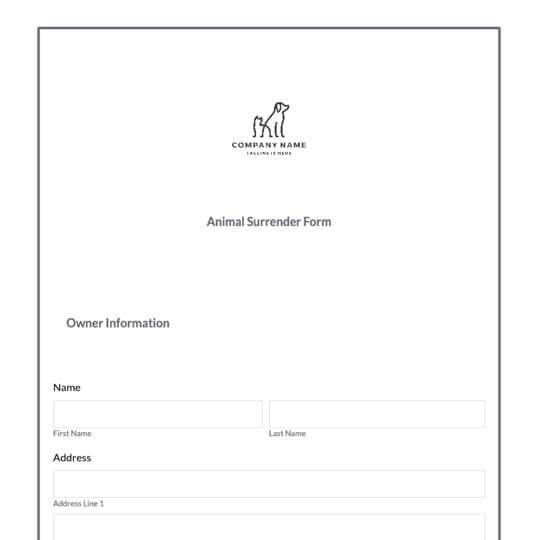input: (53, 469, 488, 499), (53, 513, 489, 540), (54, 401, 264, 431), (270, 401, 487, 430)
label: (66, 317, 172, 331), (206, 217, 333, 228), (52, 454, 94, 464), (51, 382, 83, 394)
